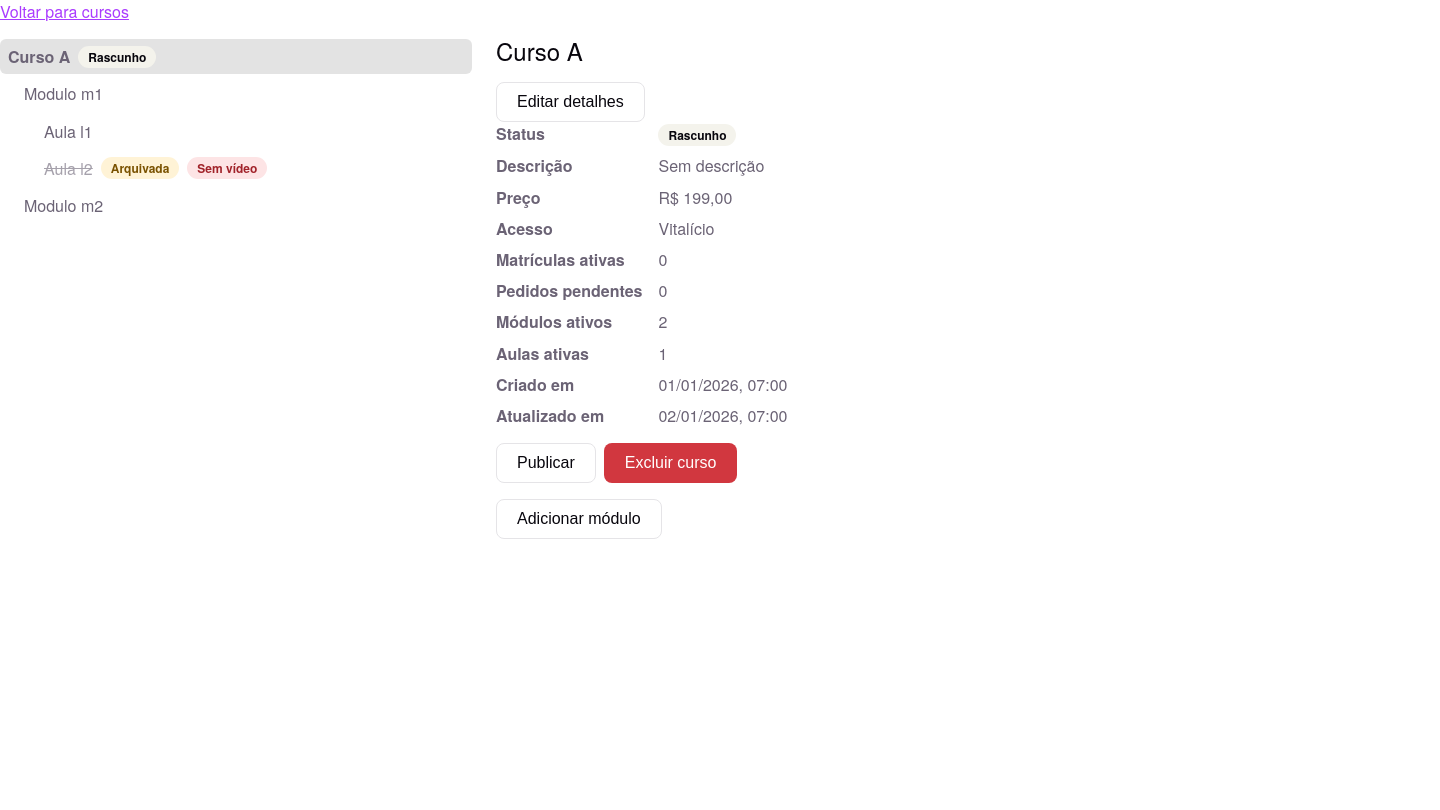
it: archiving and deleting › suggests archiving when the course has sales
Click the list item "Aula l1" at point(68, 131), box [44,120,93,143]
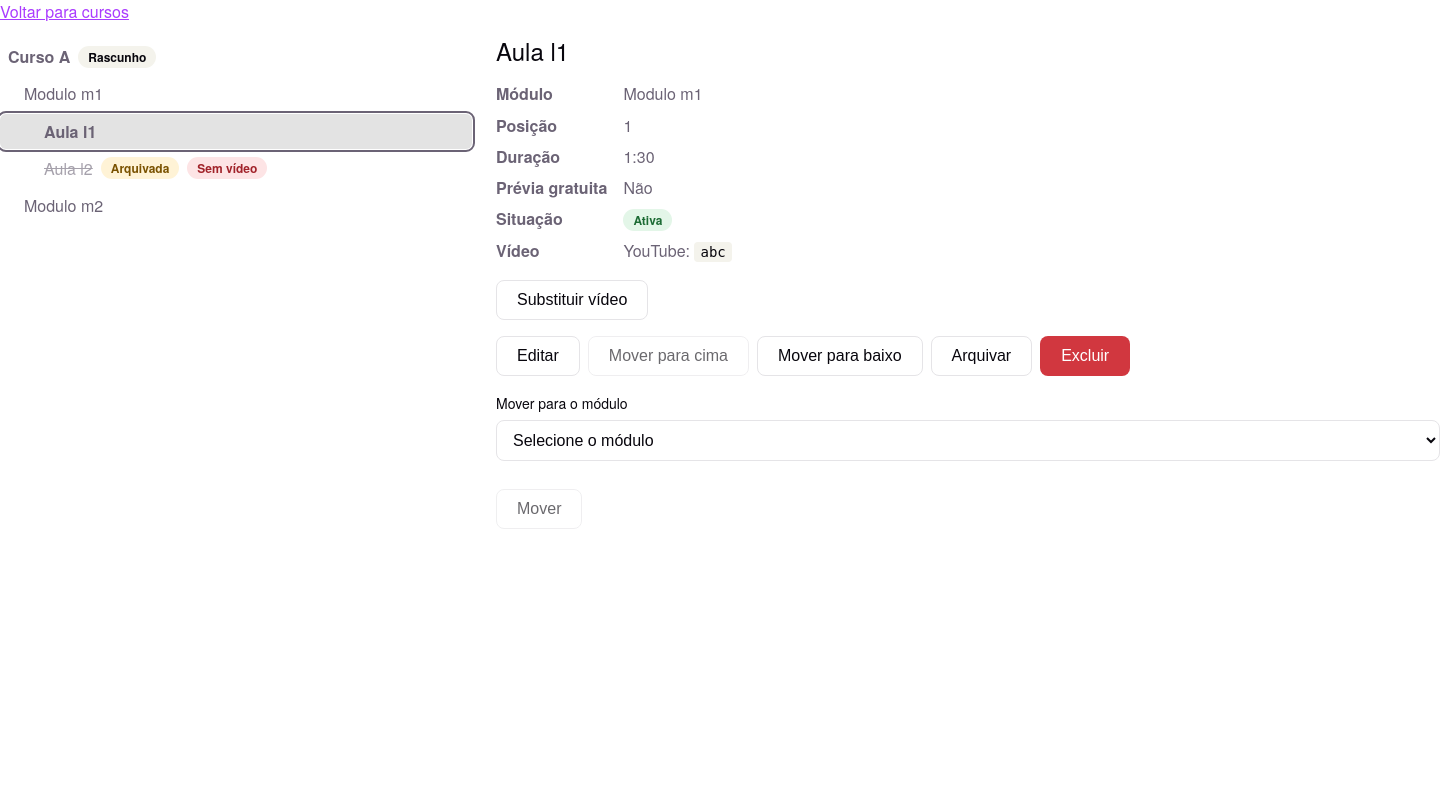
Click the button "Excluir" at point(1085, 356), box [1040,336,1130,376]
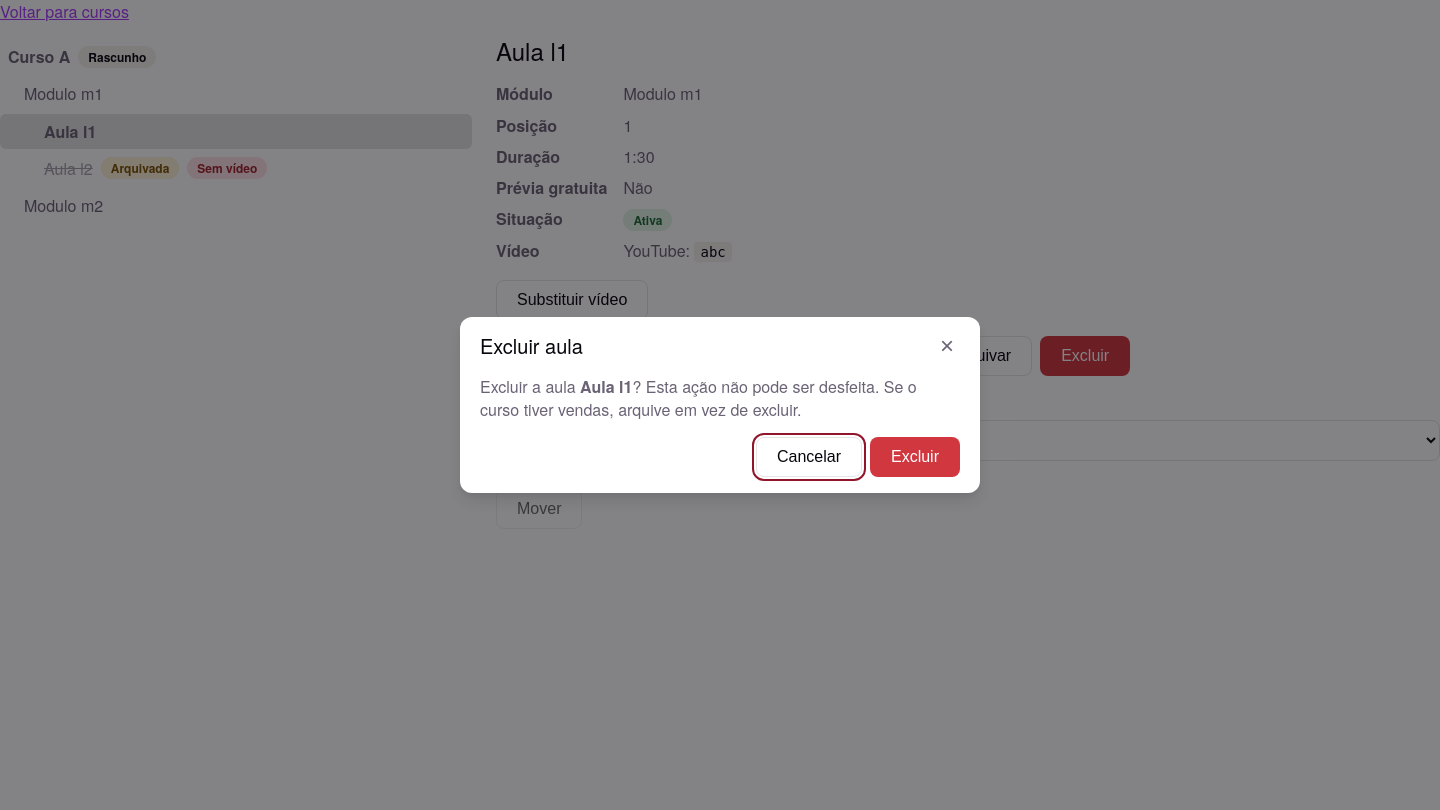
Click the button "Excluir" at point(915, 457), box [870,437,960,477]
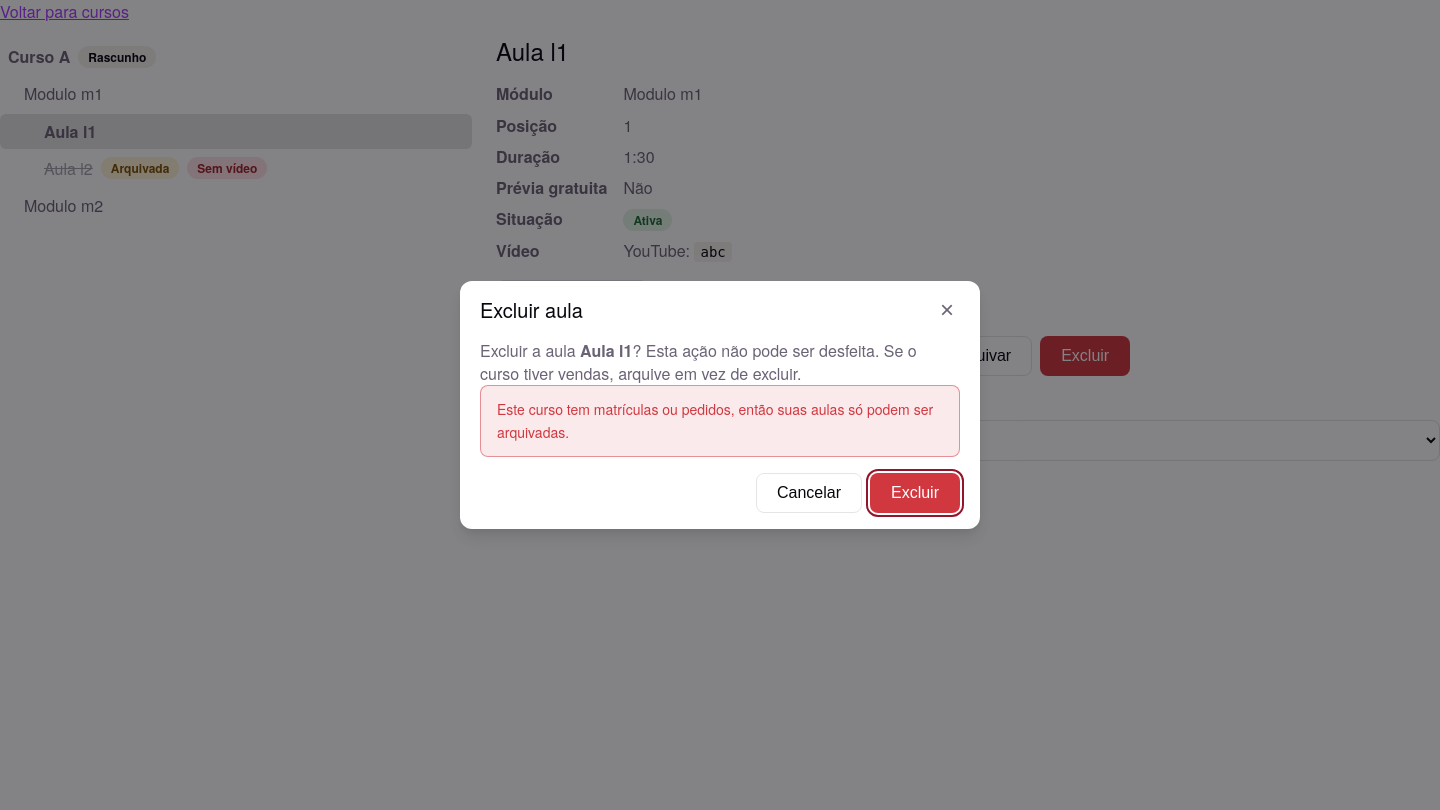
Now the text "só podem ser arquivadas" is shown, box [497,399,933,442]
